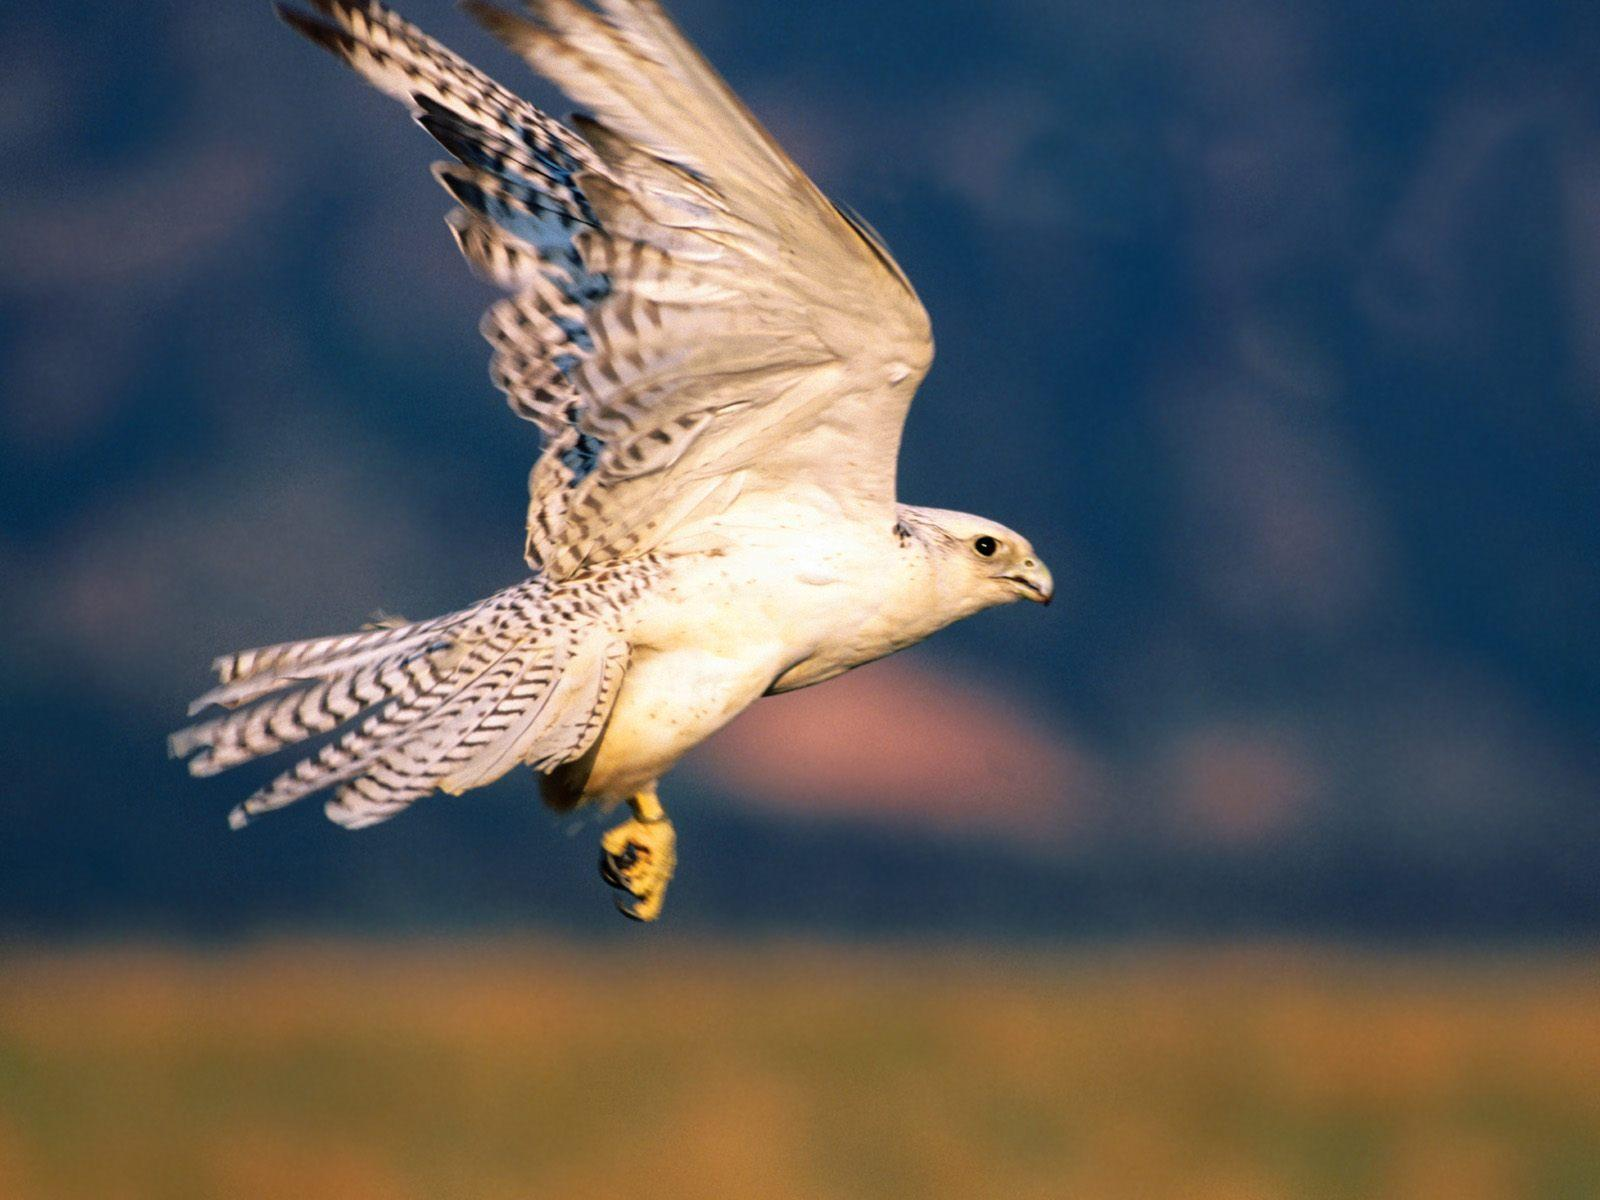bird: (136, 28, 1054, 926)
